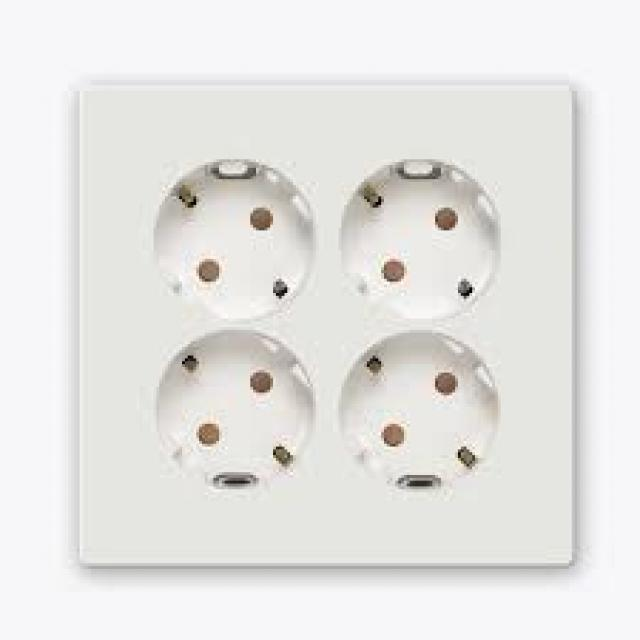typeb: (57, 76, 590, 586)
